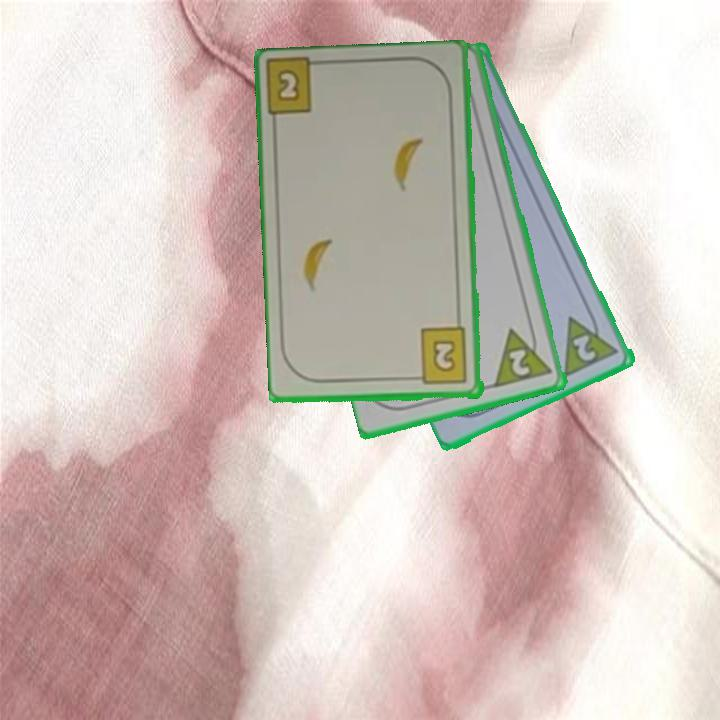2b: (409, 325, 471, 388), (274, 65, 303, 105)
2p: (560, 304, 623, 380), (491, 321, 556, 391)
